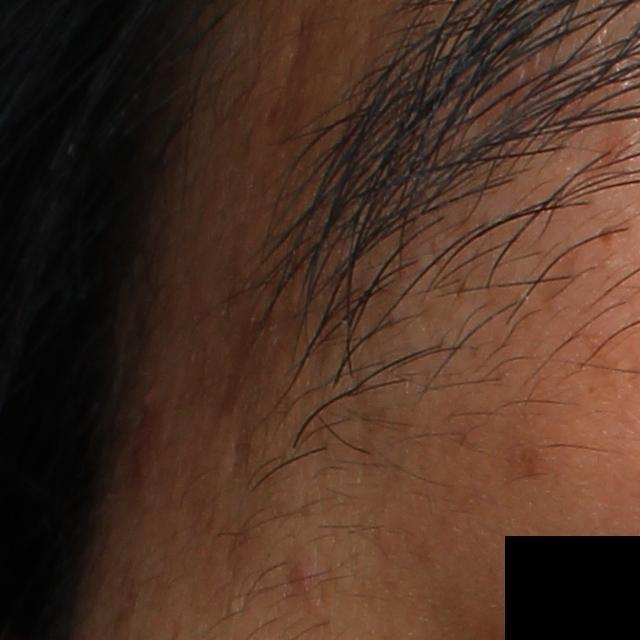papule: (283, 558, 321, 597)
